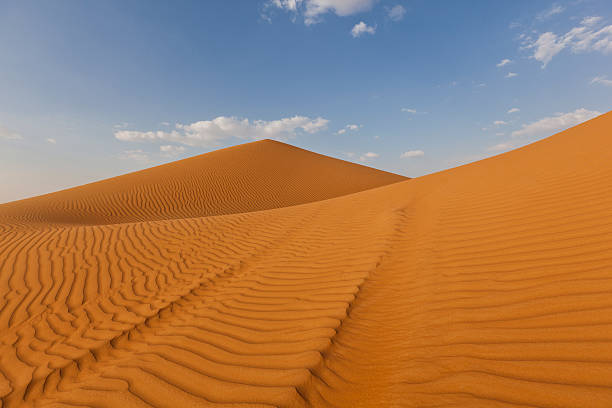human_foot_print: (3, 202, 302, 400), (311, 173, 434, 404)
